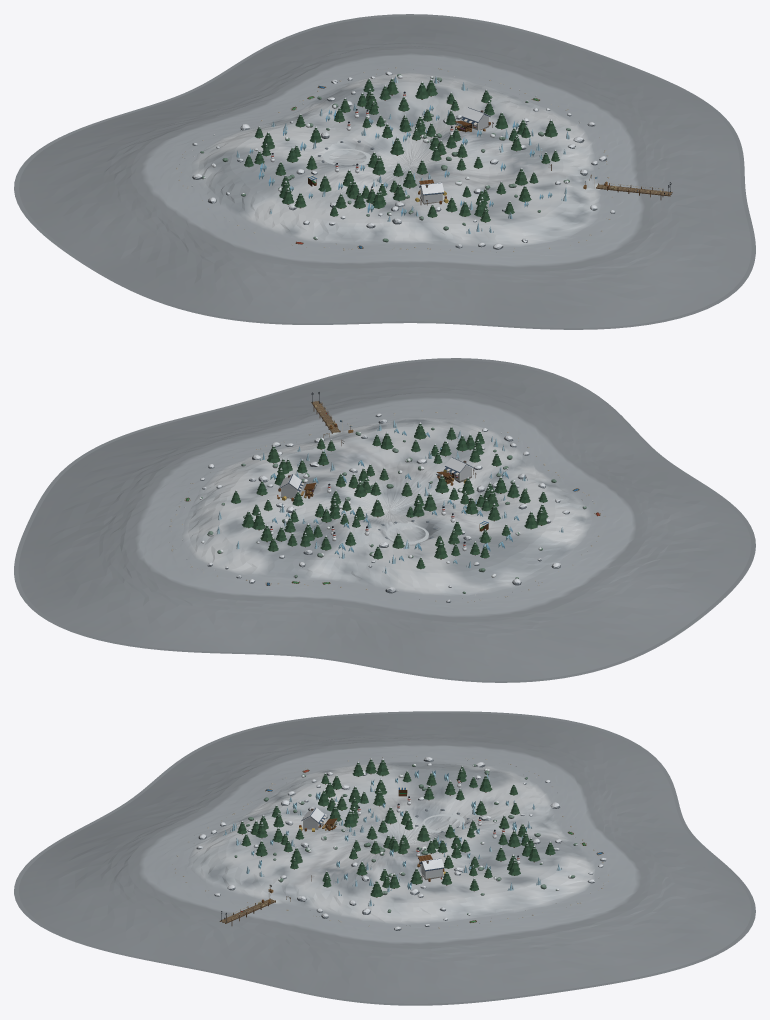
File: frost.glb
3 views of the same model, one above another, from view 1: azimuth 30°, elevation 25°; view 2: azimuth 150°, elevation 25°; view 3: azimuth 270°, elevation 25° (orthographic). The views are drawn at different scales.
Parts seen in each view (by area): view 1: frost_-7_-6, frost_-8_-6, frost_-8_-7, frost_-7_-7, frost_-7_-8, frost_-6_-7, frost_-8_-8, frost_-9_-7, frost_-6_-8, frost_-6_-6, frost_-7_-5, frost_-9_-8 (+5 smaller); view 2: frost_-7_-8, frost_-8_-8, frost_-8_-7, frost_-7_-7, frost_-7_-6, frost_-6_-7, frost_-8_-6, frost_-6_-8, frost_-9_-7, frost_-6_-6, frost_-9_-8, frost_-7_-5 (+5 smaller); view 3: frost_-6_-7, frost_-7_-6, frost_-7_-7, frost_-7_-8, frost_-8_-7, frost_-6_-8, frost_-8_-8, frost_-6_-6, frost_-8_-6, frost_-7_-5, frost_-9_-7, frost_-9_-8 (+4 smaller).
Part boxes in pixels (box(x1,y1,x2,y2)): frost_-7_-6: box(420, 167, 706, 305); frost_-8_-6: box(237, 207, 524, 325); frost_-8_-7: box(130, 126, 415, 267); frost_-7_-7: box(310, 89, 594, 210); frost_-7_-8: box(204, 30, 492, 132); frost_-6_-7: box(493, 75, 742, 172); frost_-8_-8: box(44, 81, 312, 188); frost_-9_-7: box(36, 189, 236, 300); frost_-6_-8: box(394, 17, 654, 94); frost_-6_-6: box(600, 153, 755, 261); frost_-7_-5: box(513, 259, 736, 329); frost_-9_-8: box(14, 143, 129, 229); frost_-7_-8: box(98, 510, 382, 655); frost_-8_-8: box(275, 545, 563, 682); frost_-8_-7: box(384, 473, 666, 608); frost_-7_-7: box(202, 437, 489, 553); frost_-7_-6: box(304, 375, 588, 476); frost_-6_-7: box(42, 422, 306, 514); frost_-8_-6: box(487, 419, 729, 533); frost_-6_-8: box(14, 494, 201, 604); frost_-9_-7: box(565, 533, 750, 647); frost_-6_-6: box(157, 369, 407, 439); frost_-9_-8: box(478, 608, 663, 682); frost_-7_-5: box(409, 358, 614, 423); frost_-6_-7: box(295, 898, 507, 1005); frost_-7_-6: box(92, 804, 305, 921); frost_-7_-7: box(294, 805, 504, 909); frost_-7_-8: box(495, 814, 705, 918); frost_-8_-7: box(296, 740, 506, 825); frost_-6_-8: box(491, 905, 706, 1000); frost_-8_-8: box(496, 742, 697, 843); frost_-6_-6: box(100, 902, 304, 993); frost_-8_-6: box(92, 745, 305, 837); frost_-7_-5: box(14, 833, 108, 926); frost_-9_-7: box(294, 711, 505, 745); frost_-9_-8: box(492, 712, 654, 759).
Bounding box in the file's own units: 279 × 19.45 × 297.
